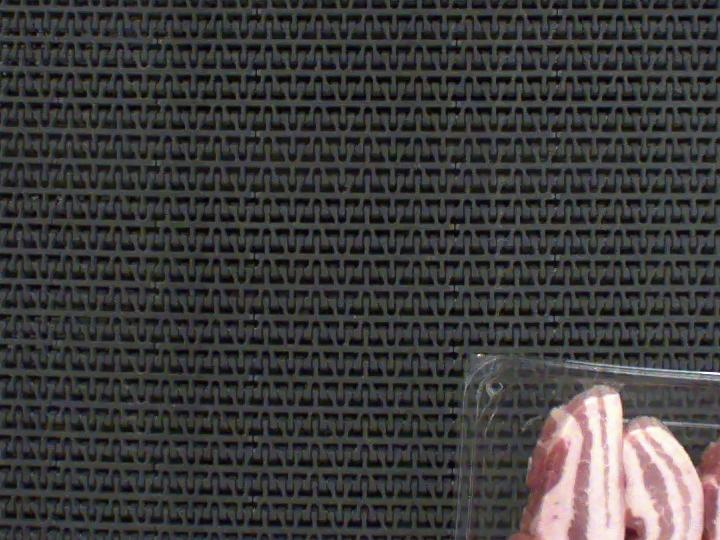packaging-error: (578, 366, 631, 396)
